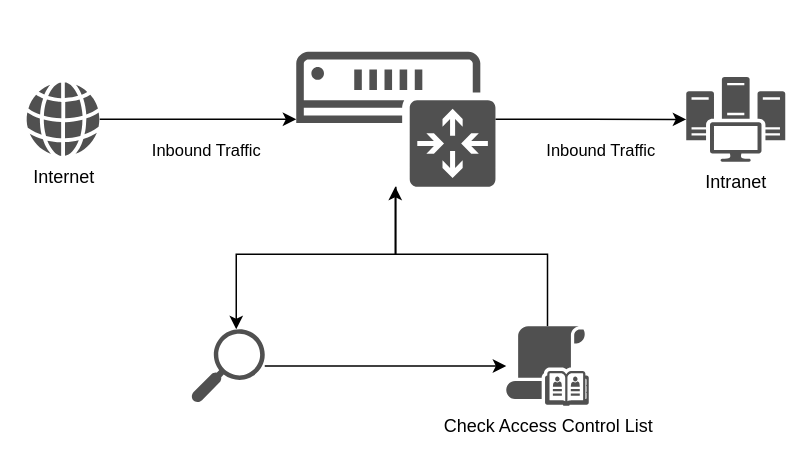
Some shapes in this 810 by 462 pixel diagram are drawn without their labels. Here are the shapes that lost their labels. From the top down, the centre of each, then its label:
At pixel 395 118: "Firewall".
At pixel 227 365: "Traffic Inspection".
